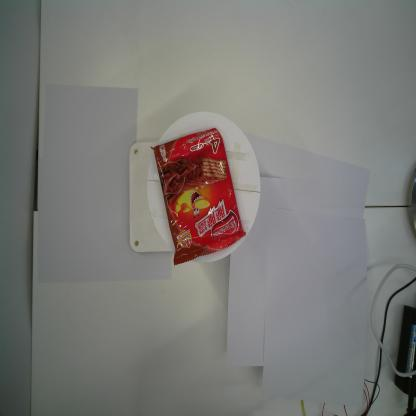Dessert: (150, 127, 247, 266)
